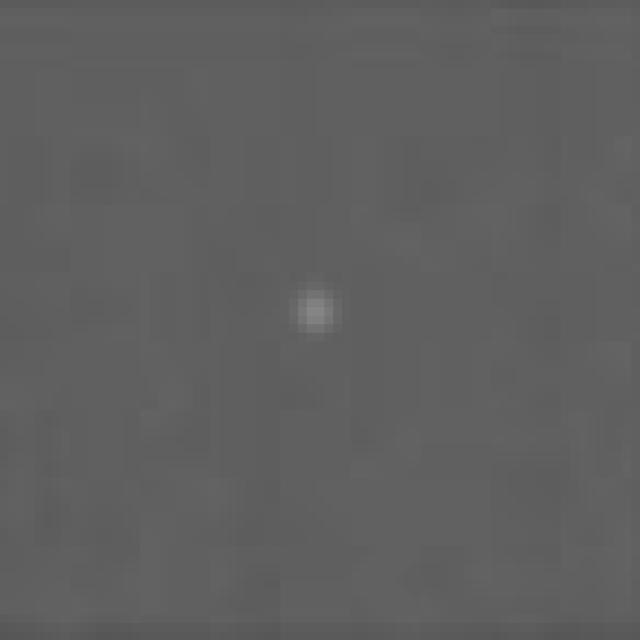Defect1: (238, 240, 386, 374)
